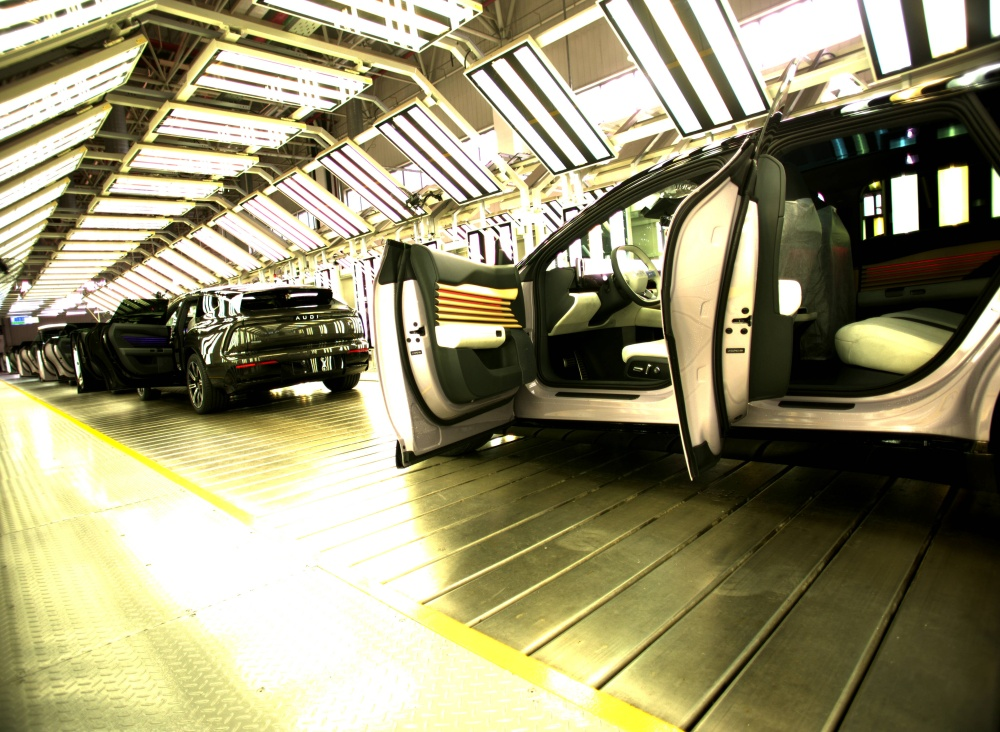armrest_color: (432, 325, 508, 352)
panel_color: (432, 277, 524, 328)
